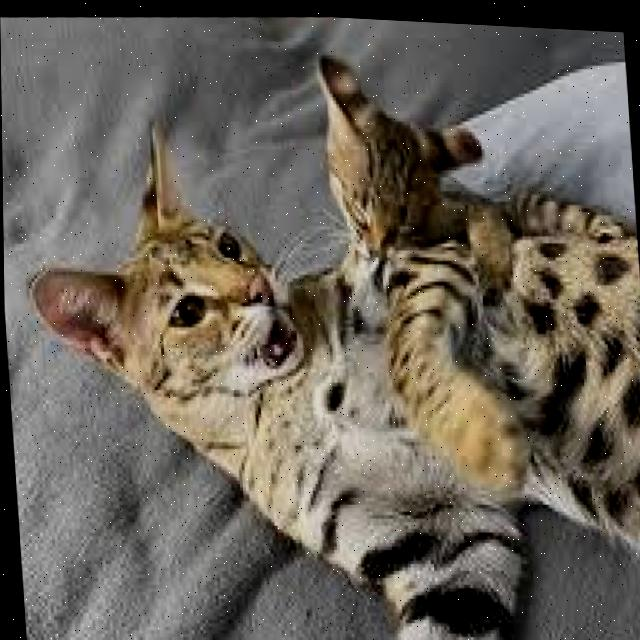Savannah: (7, 84, 640, 640), (313, 24, 639, 294)
